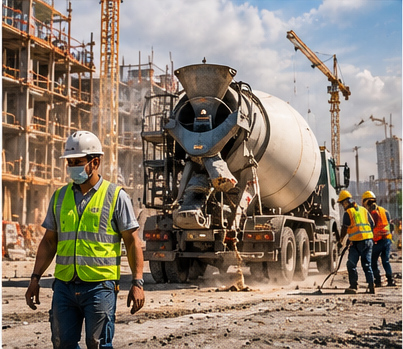crane: (278, 22, 362, 247)
hardhat: (58, 129, 104, 154), (338, 187, 351, 203), (363, 191, 379, 202)
person: (26, 124, 151, 347), (330, 184, 372, 297), (361, 190, 399, 299)
safety_vest: (53, 183, 127, 282), (346, 207, 373, 241), (372, 207, 393, 247)
